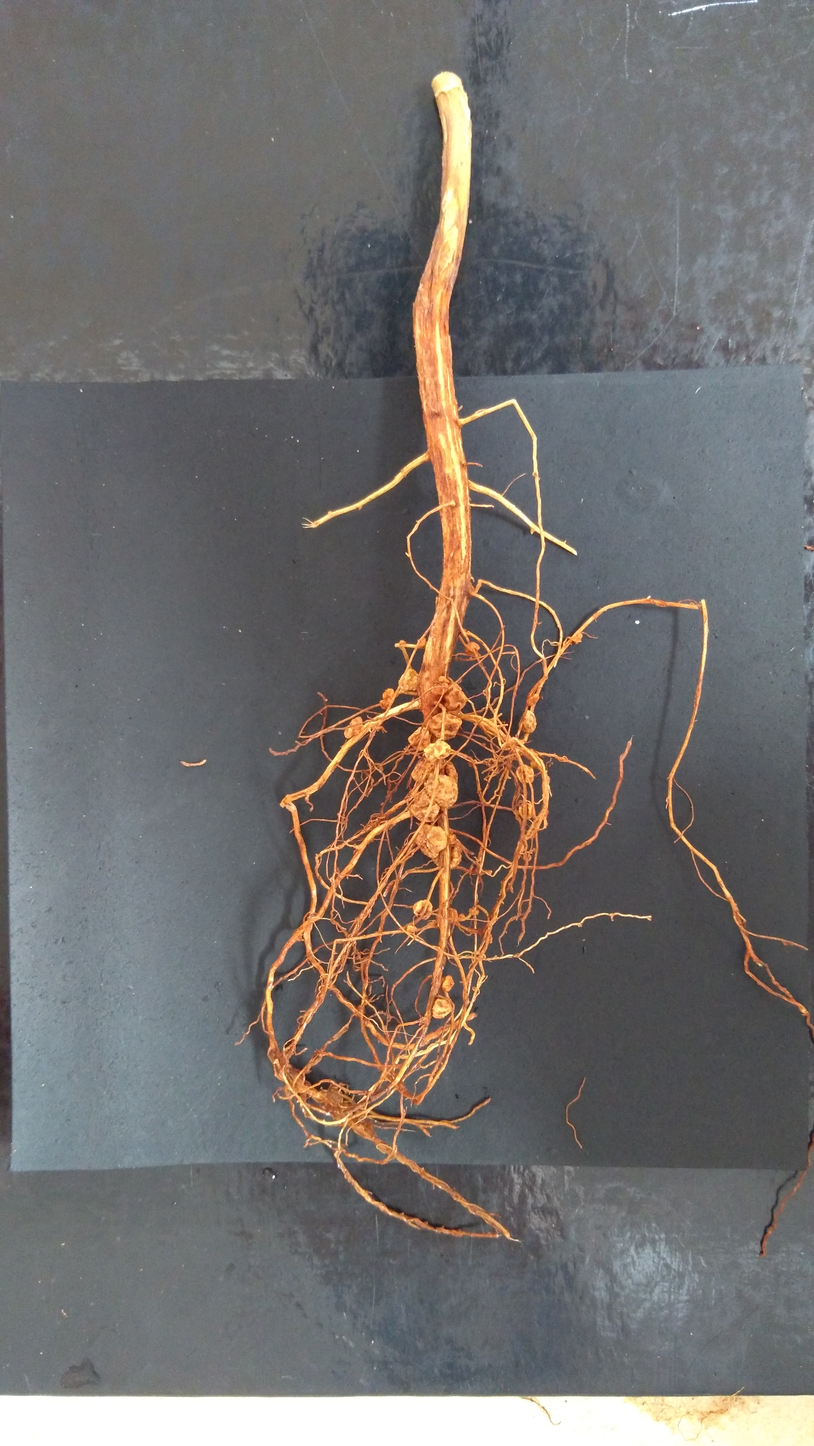nodule: (425, 773, 458, 808), (416, 822, 447, 859), (409, 789, 440, 825), (431, 835, 462, 869), (429, 711, 462, 740), (410, 756, 439, 782), (408, 725, 431, 751), (444, 688, 466, 713), (329, 1101, 356, 1121), (431, 996, 453, 1019), (398, 668, 419, 691), (442, 676, 462, 698), (519, 709, 537, 733), (413, 900, 432, 921), (431, 675, 449, 696), (325, 1088, 344, 1107), (516, 764, 534, 784), (434, 740, 452, 759), (442, 759, 457, 781), (327, 1082, 348, 1097), (424, 743, 439, 762), (500, 736, 518, 751), (349, 716, 363, 735), (282, 1084, 299, 1098), (464, 642, 480, 656), (445, 907, 458, 924), (441, 975, 454, 992), (382, 688, 395, 703), (526, 692, 538, 706), (354, 1004, 366, 1018), (571, 632, 583, 645), (406, 924, 418, 933), (416, 637, 426, 647), (379, 700, 390, 709), (343, 727, 352, 738), (468, 908, 480, 916), (529, 759, 538, 768), (458, 913, 466, 921), (398, 639, 407, 646), (468, 760, 474, 768), (380, 802, 384, 806), (482, 742, 486, 746)
